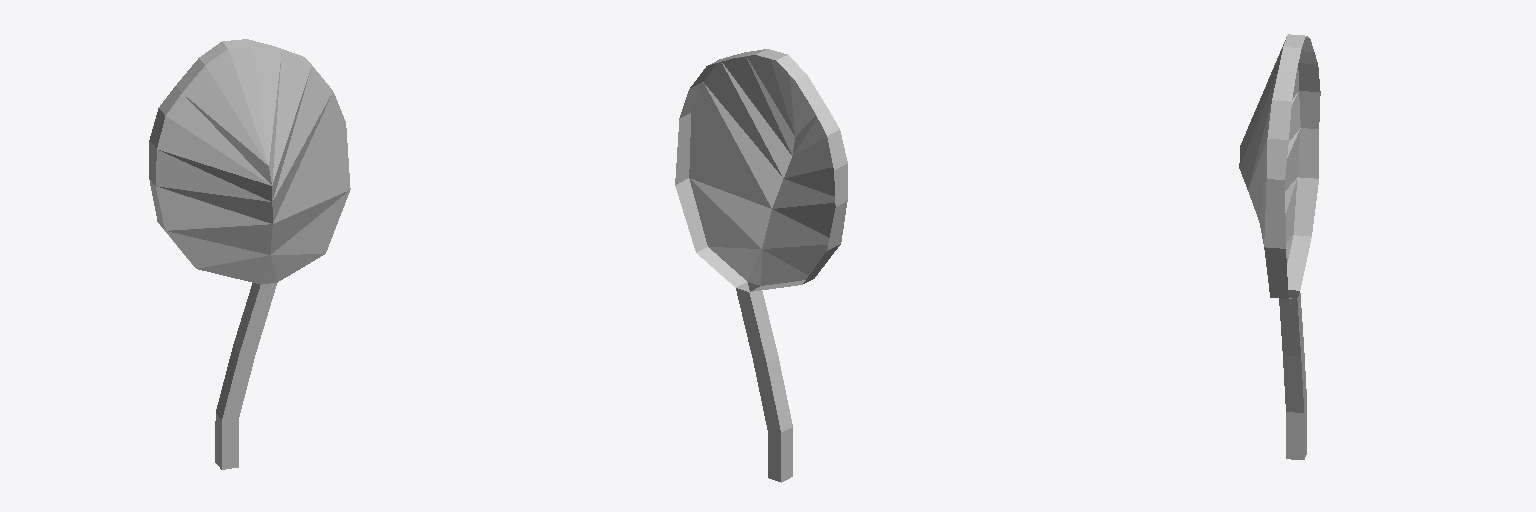
File: arbre8.obj
3 renders of one model, left to right at view 1: azimuth 30°, elevation 25°; view 2: azimuth 150°, elevation 25°; view 3: azimuth 270°, elevation 25°, orthographic.
Size of the model in its own units: 0.6845 by 1.53 by 0.2679.